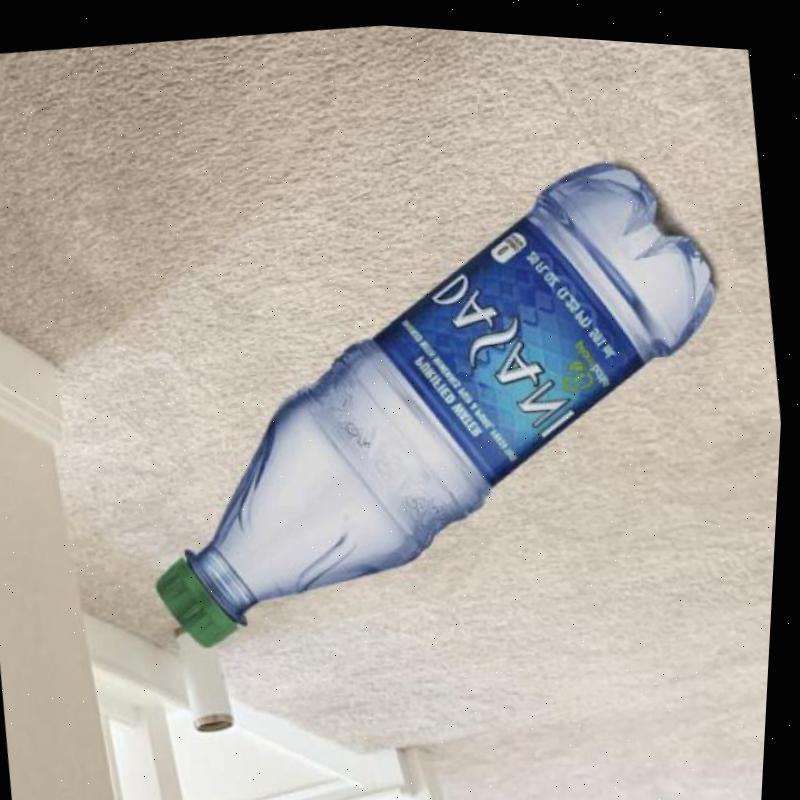botella: (104, 111, 770, 677)
